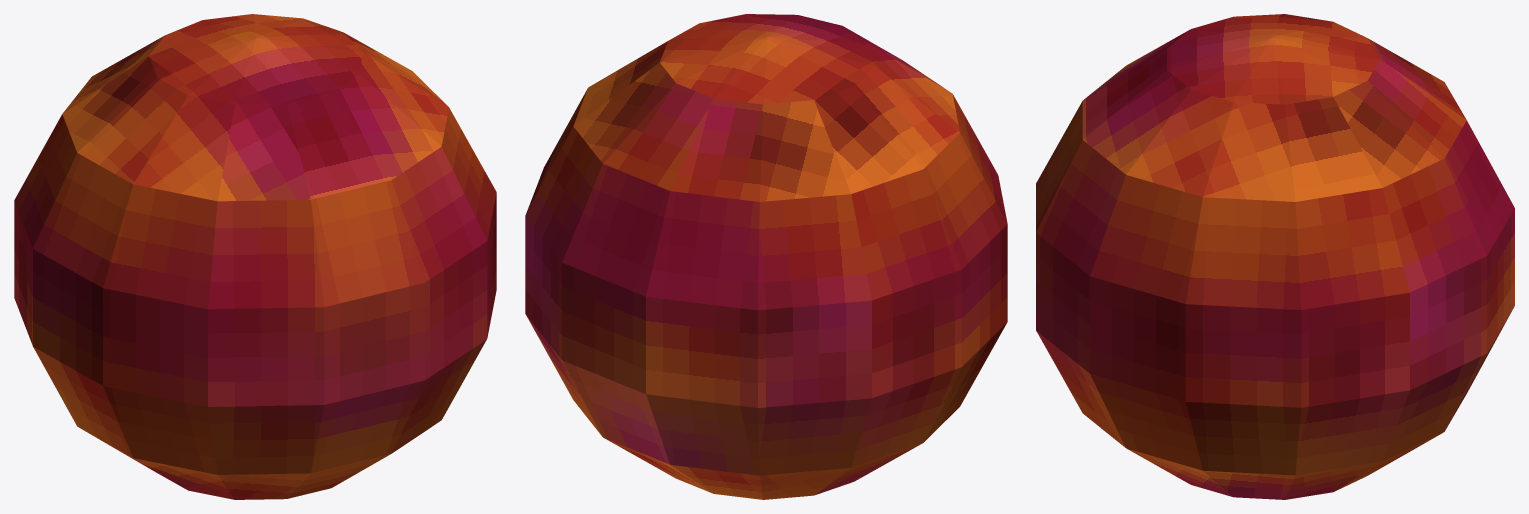
Rendered from asteroid4.fbx.
The picture shows the model from 3 angles, left to right: view 1: azimuth 30°, elevation 25°; view 2: azimuth 150°, elevation 25°; view 3: azimuth 270°, elevation 25°; orthographic projection.
Parts seen in each view (by area): view 1: sphere; view 2: sphere; view 3: sphere.
Part boxes in pixels (x1,y1,x2,y2): sphere: [14, 14, 496, 499]; sphere: [525, 14, 1007, 499]; sphere: [1036, 14, 1514, 499].
Bounding box in the file's own units: 112 × 112 × 111.
Materials: 1 (1 with a texture image).
